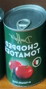tomatoes: (2, 4, 45, 87)
